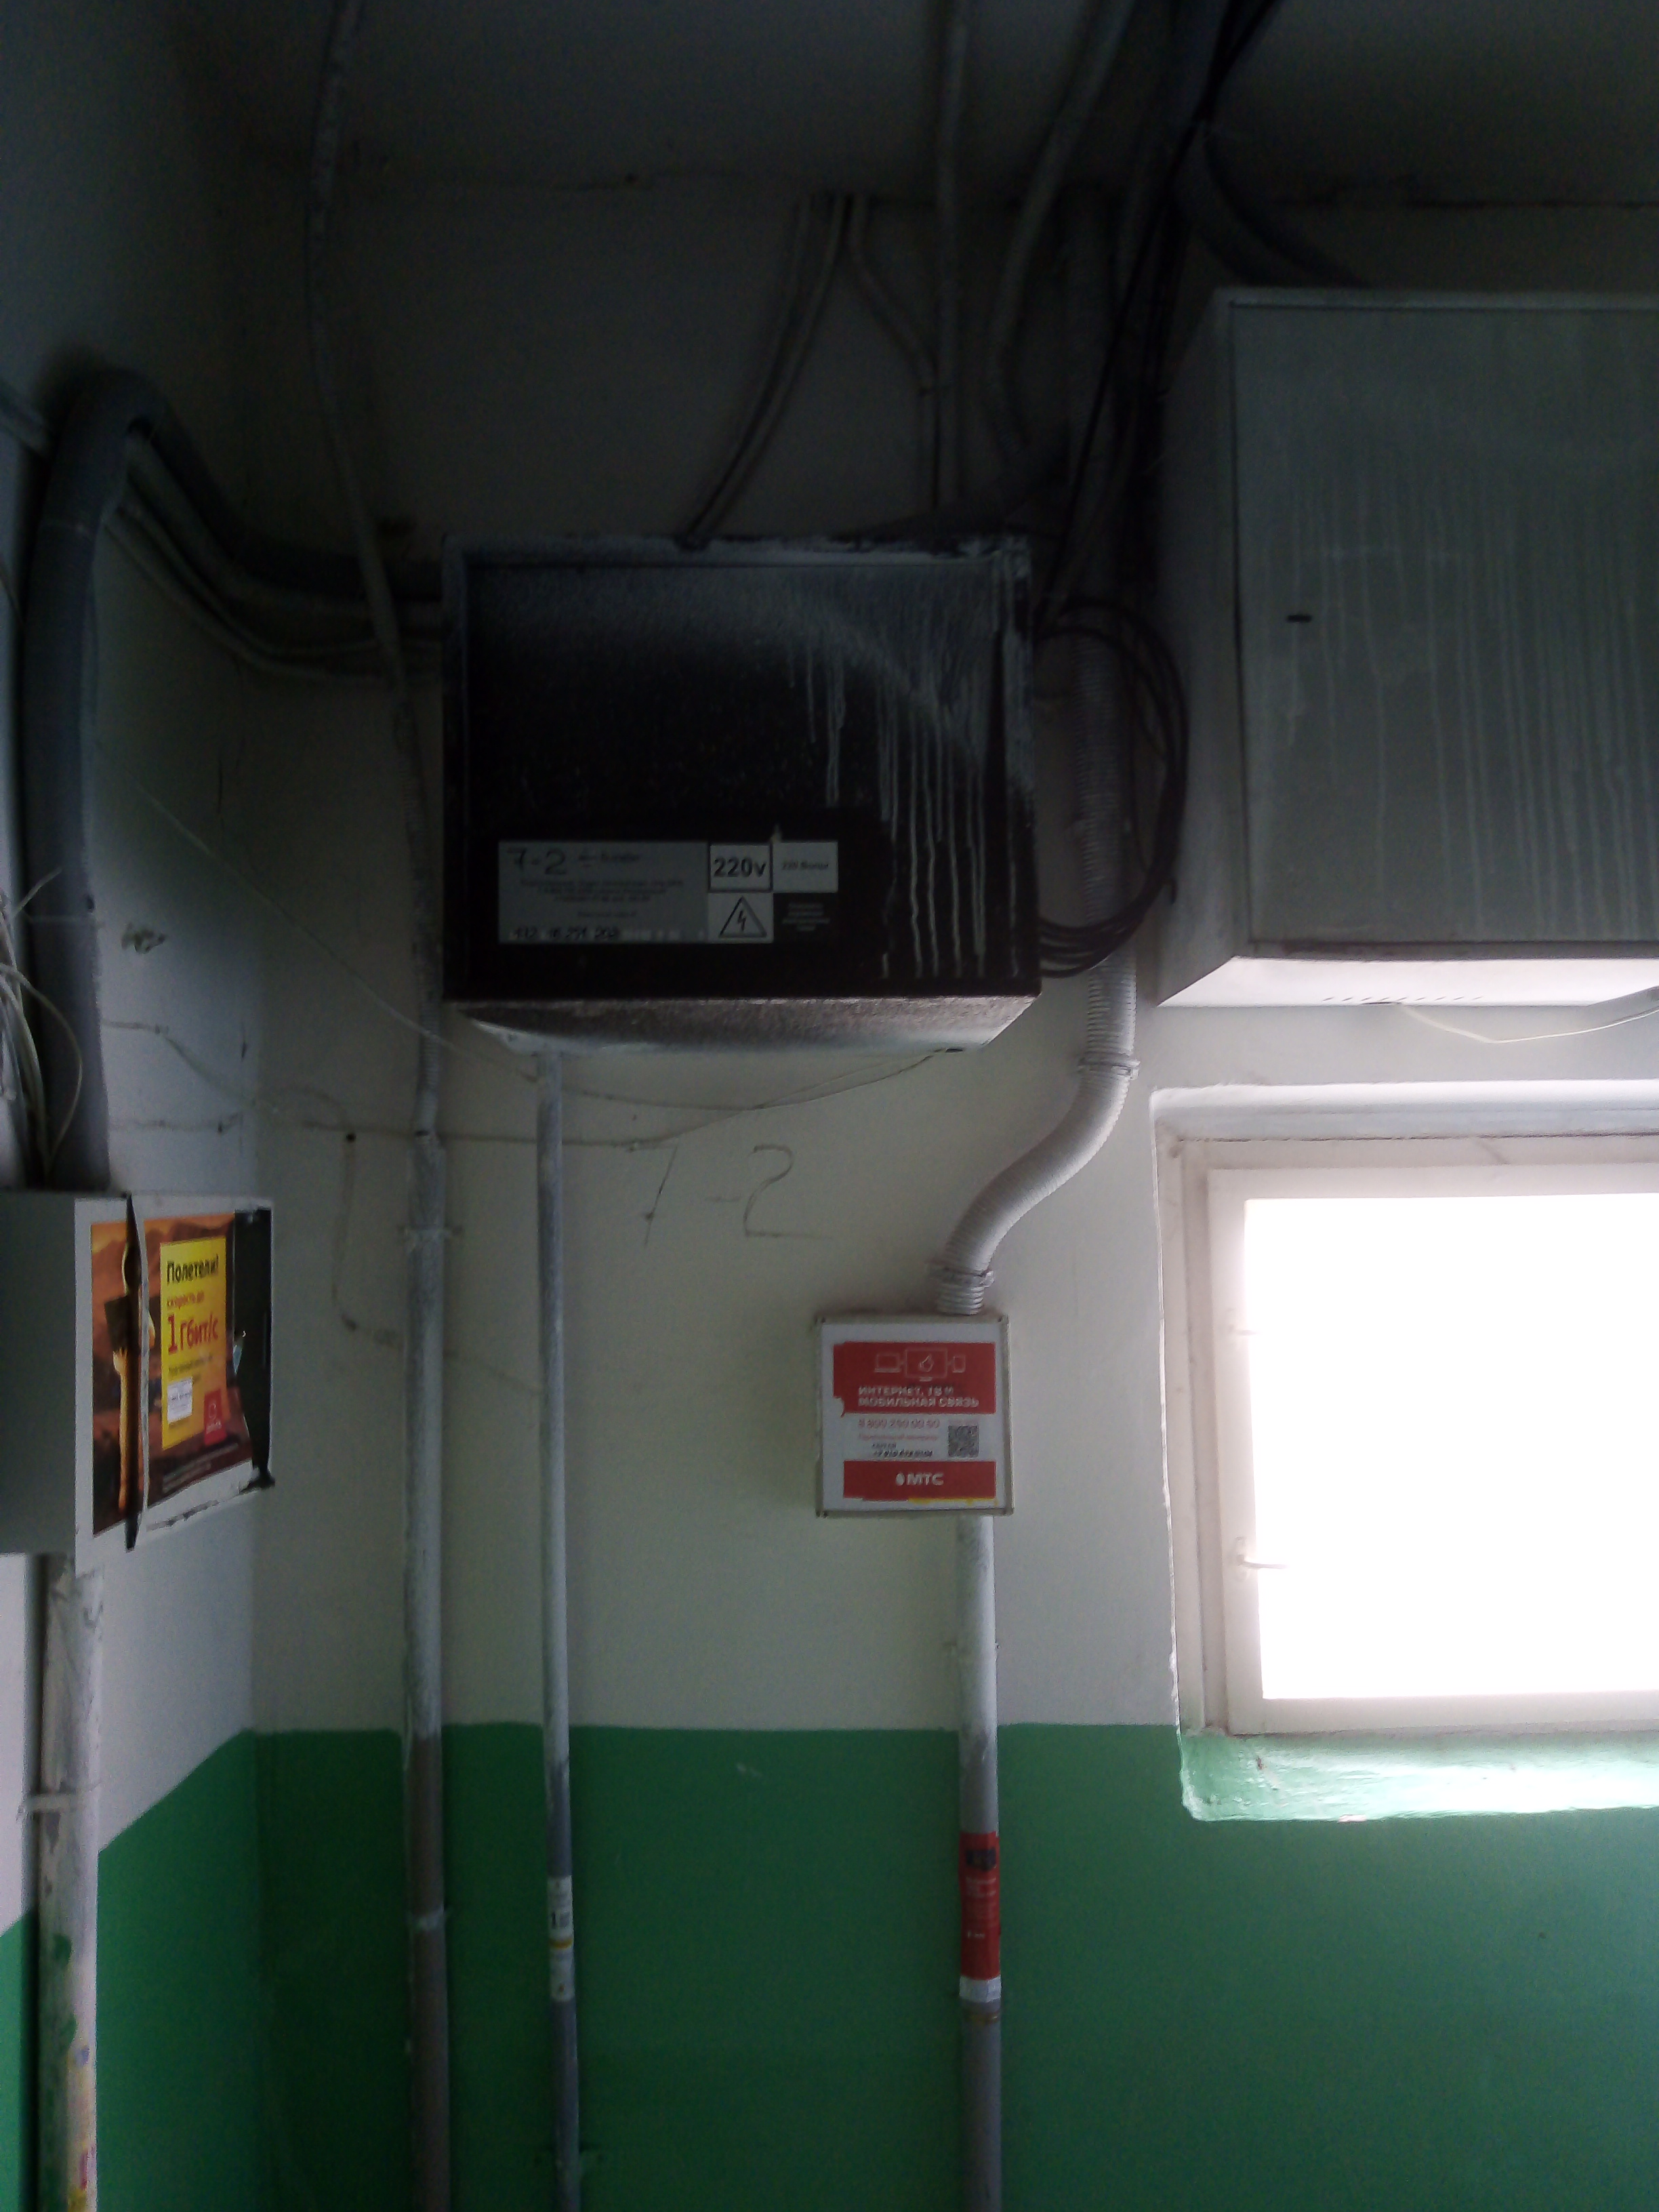shta-9m: (427, 528, 1051, 1061)
